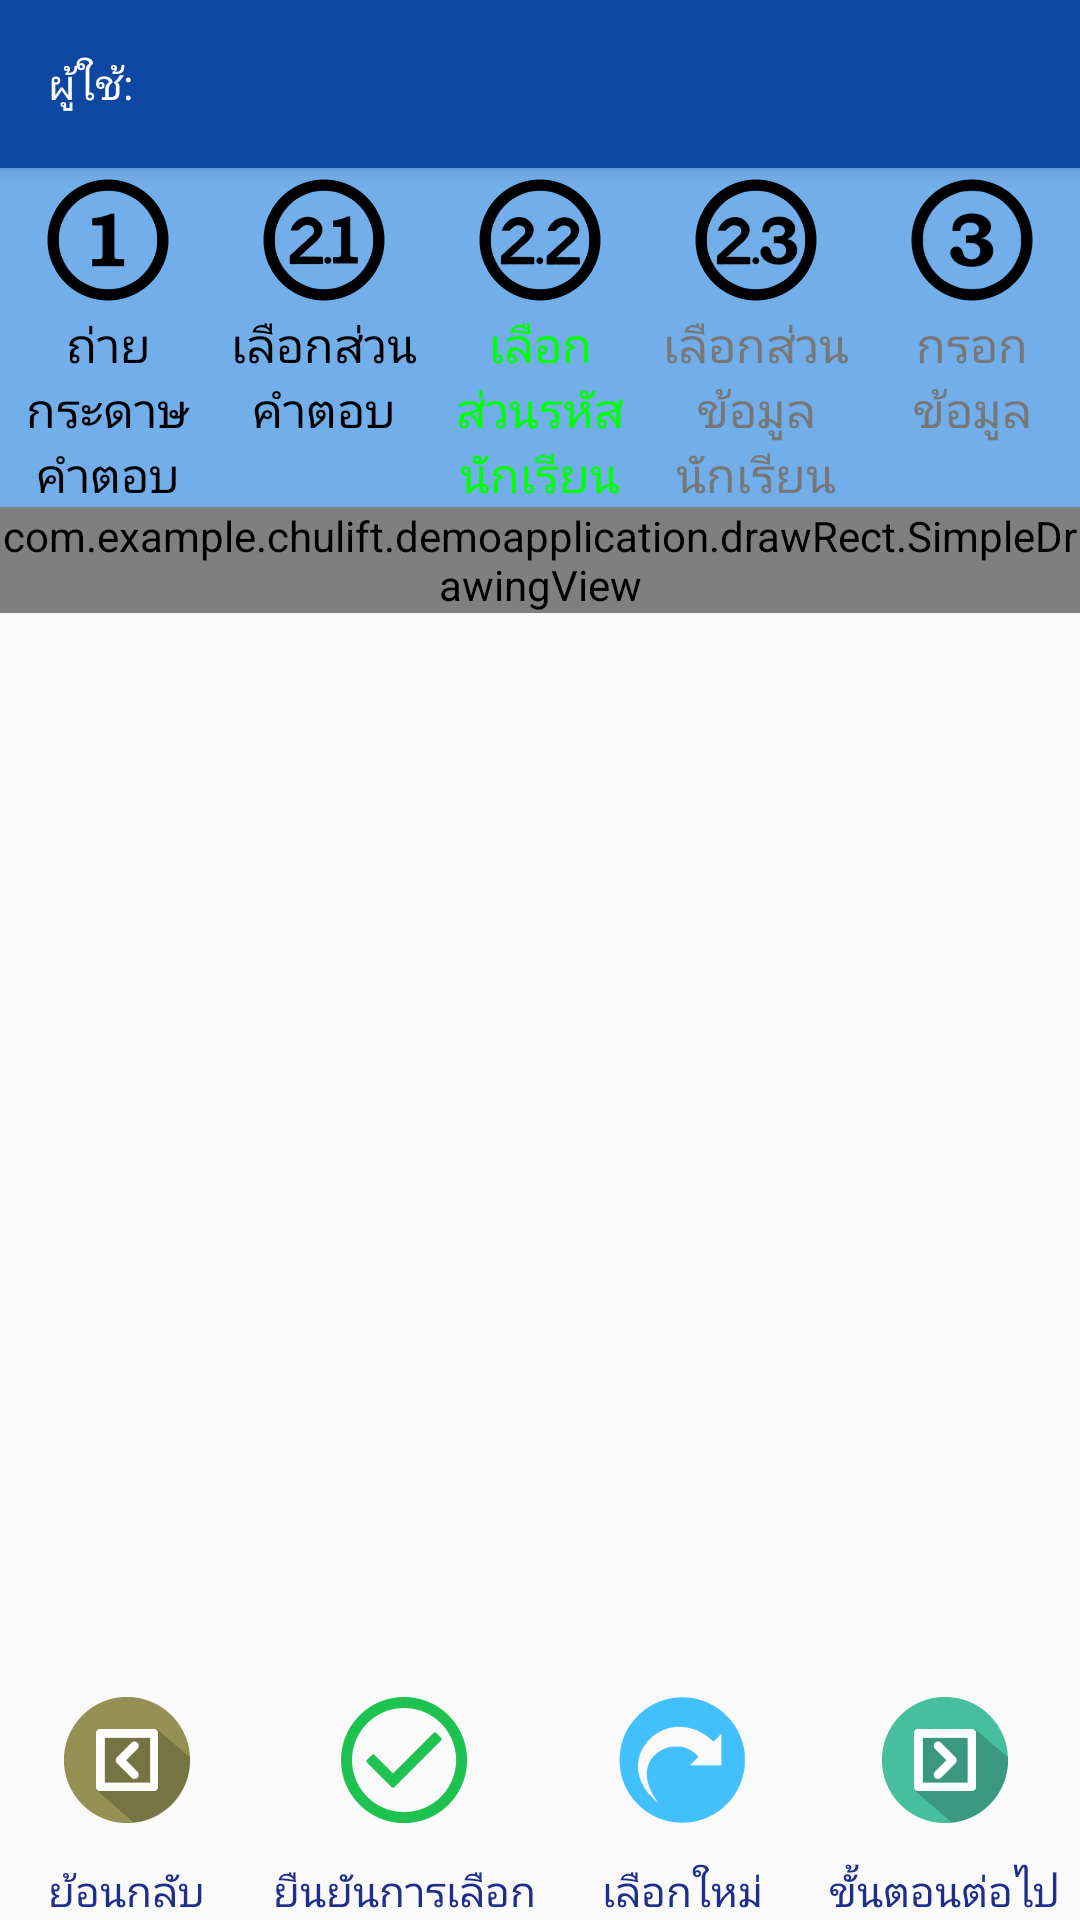

Named icons in this screenshot (1080 x 1920) and their bounding boxes, [x1,y1,x2,y2]:
ถัดไป: [882,1697,1008,1823]
